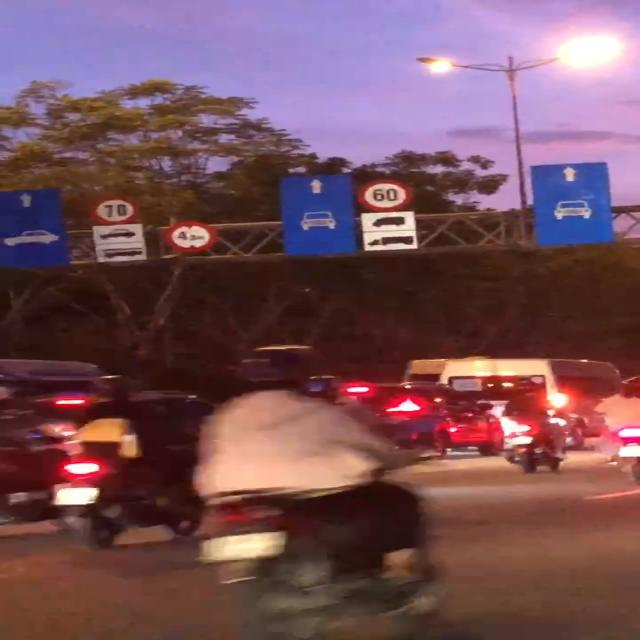Bien bao han che chieu cao: (166, 220, 225, 256)
Bien bao toc do toi da cho phep: (358, 176, 412, 214), (88, 194, 144, 226)
